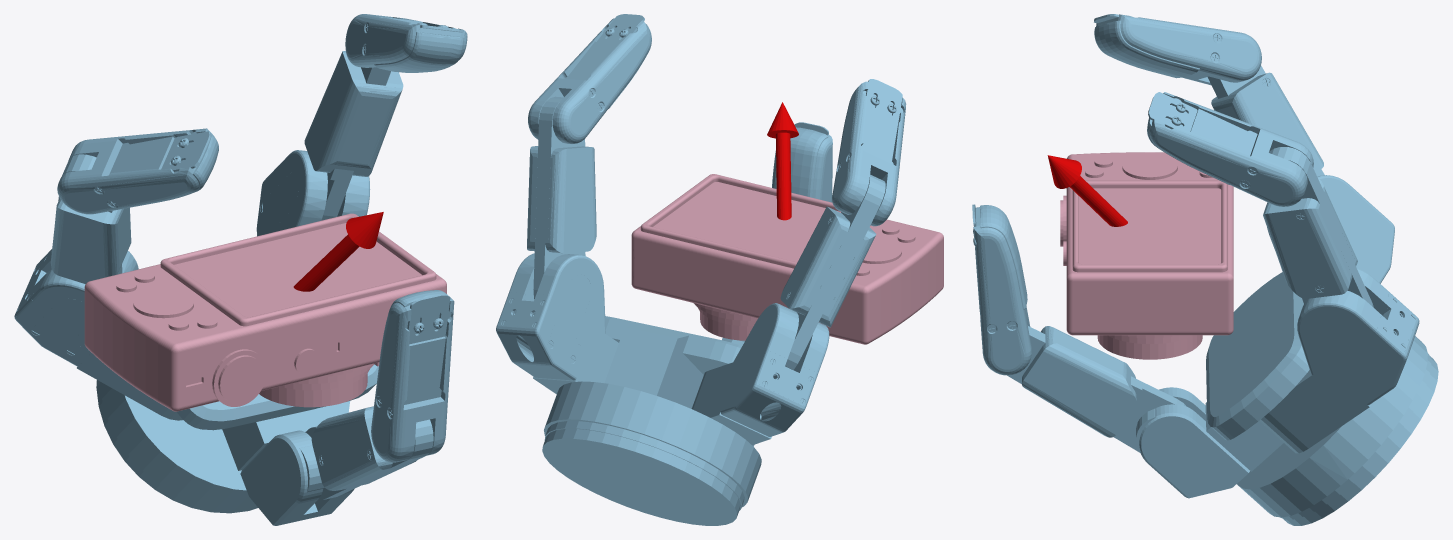
3 views of the same model, side by side, from view 1: azimuth 30°, elevation 25°; view 2: azimuth 150°, elevation 25°; view 3: azimuth 270°, elevation 25° (orthographic). The views are drawn at different scales.
Visible parts, largest first — view 1: world, camera.stl; view 2: world, camera.stl; view 3: world, camera.stl.
Boxes of the visible parts, left/top/right/bottom form: world: left=14, top=14, right=467, bottom=525; camera.stl: left=84, top=213, right=446, bottom=411; world: left=496, top=14, right=906, bottom=525; camera.stl: left=631, top=174, right=943, bottom=344; world: left=972, top=14, right=1438, bottom=525; camera.stl: left=1060, top=152, right=1233, bottom=359.
Bounding box in the file's own units: 0.1579 × 0.1991 × 0.1805.
